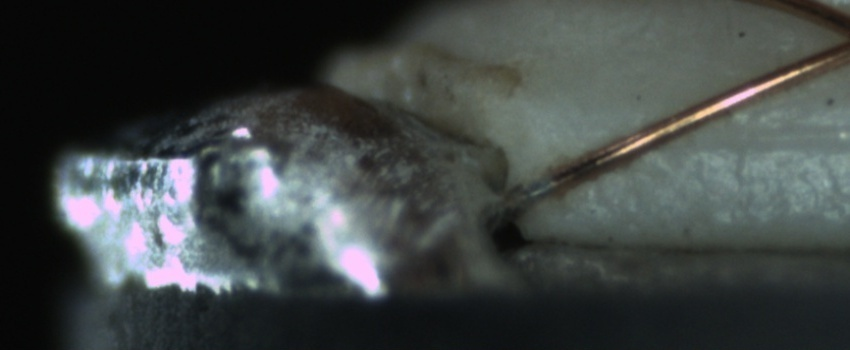CL: (828, 10, 850, 62)
DL: (680, 106, 850, 173)
TS: (511, 173, 557, 208)
